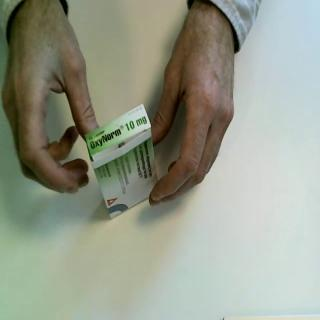oxynorm10mg: (83, 102, 159, 222)
